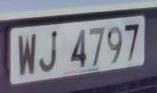4: (69, 25, 89, 73)
7: (121, 19, 142, 64), (87, 22, 106, 70)
9: (106, 21, 125, 68)
J: (37, 27, 62, 78)
W: (15, 28, 40, 82)
